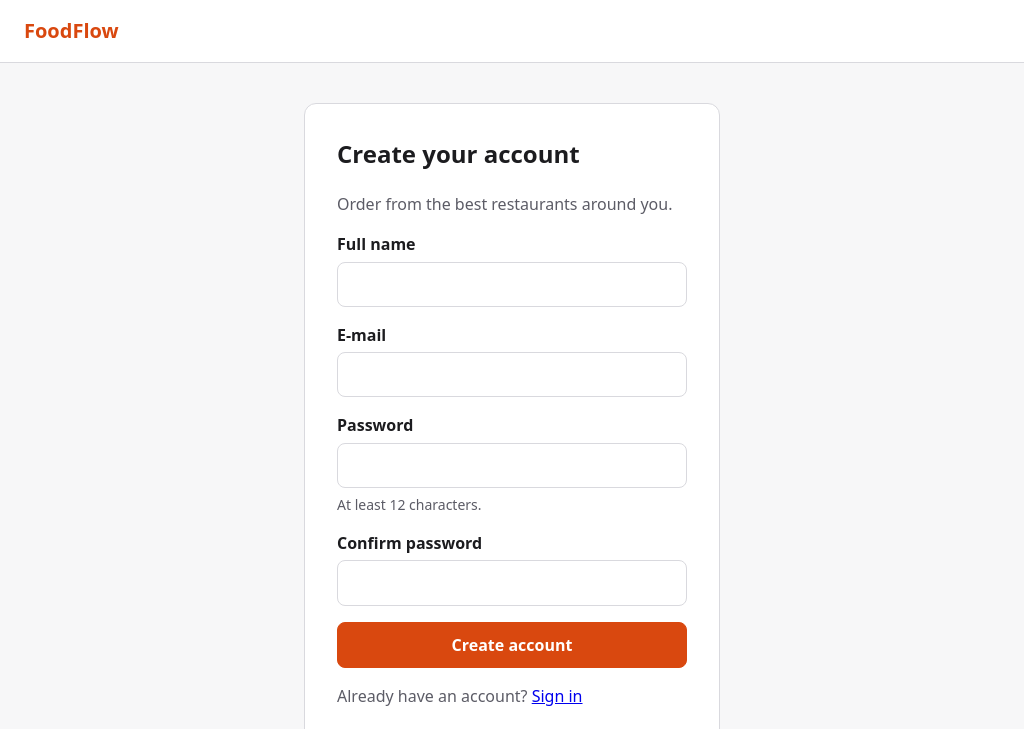
Test case: registration › enforces the password policy and confirmation locally
Type "short" into the password field labelled "Password" at (512,466), box [337,443,687,488]
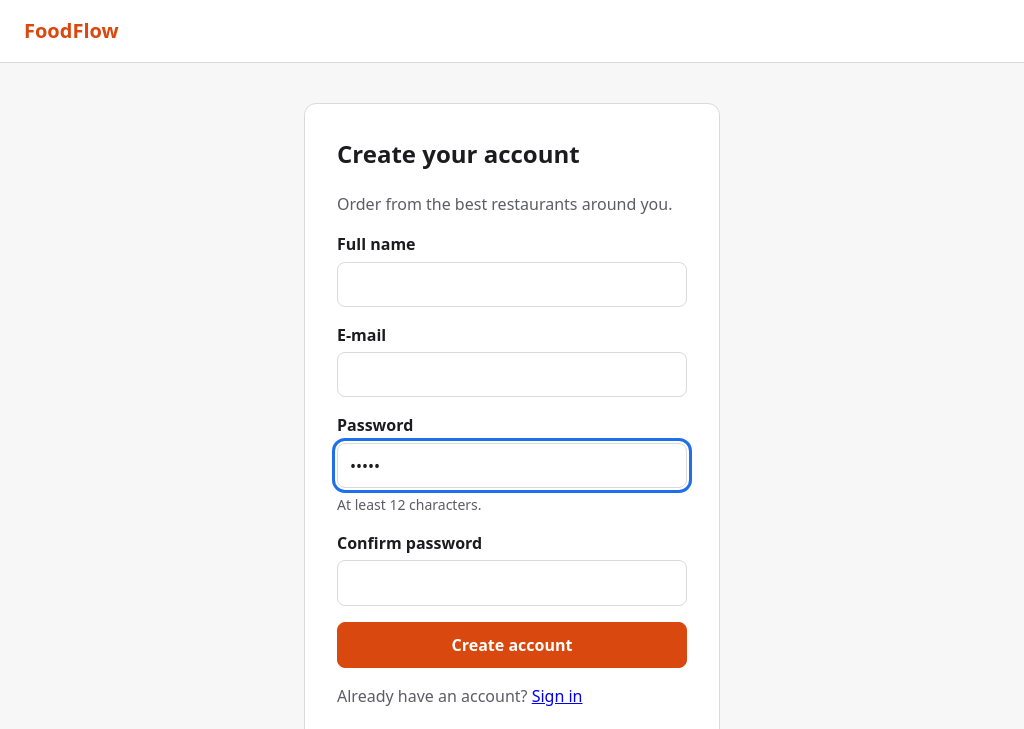
Type "different" into the password field labelled "Confirm password" at (512,583), box [337,560,687,606]
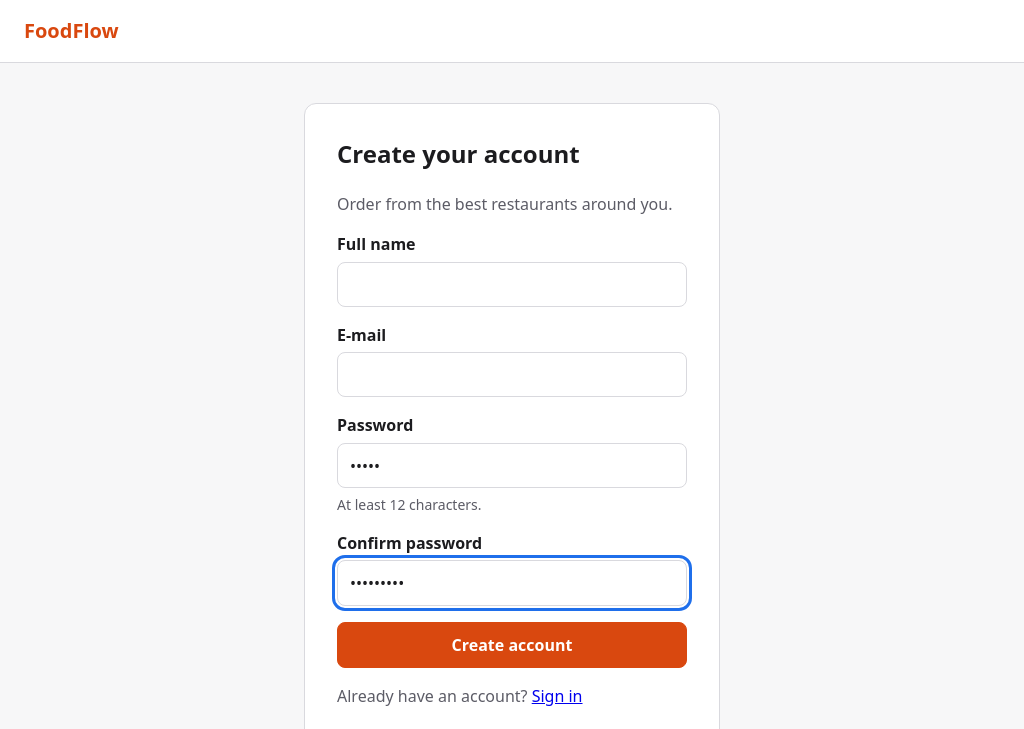
Click the button "Create account" at (512,645), box [337,622,687,668]
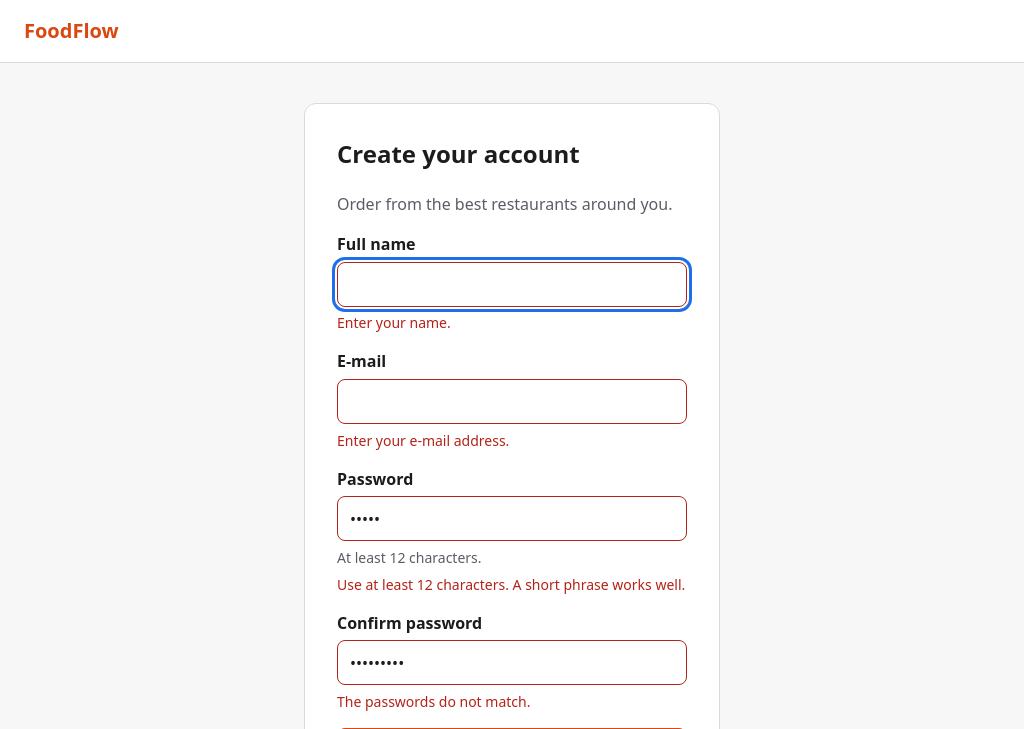
Expected: the text "Use at least 12 characters. A short phrase works well." is shown, [337,574,687,595]
Expected: the text "The passwords do not match." is shown, [337,692,530,711]
